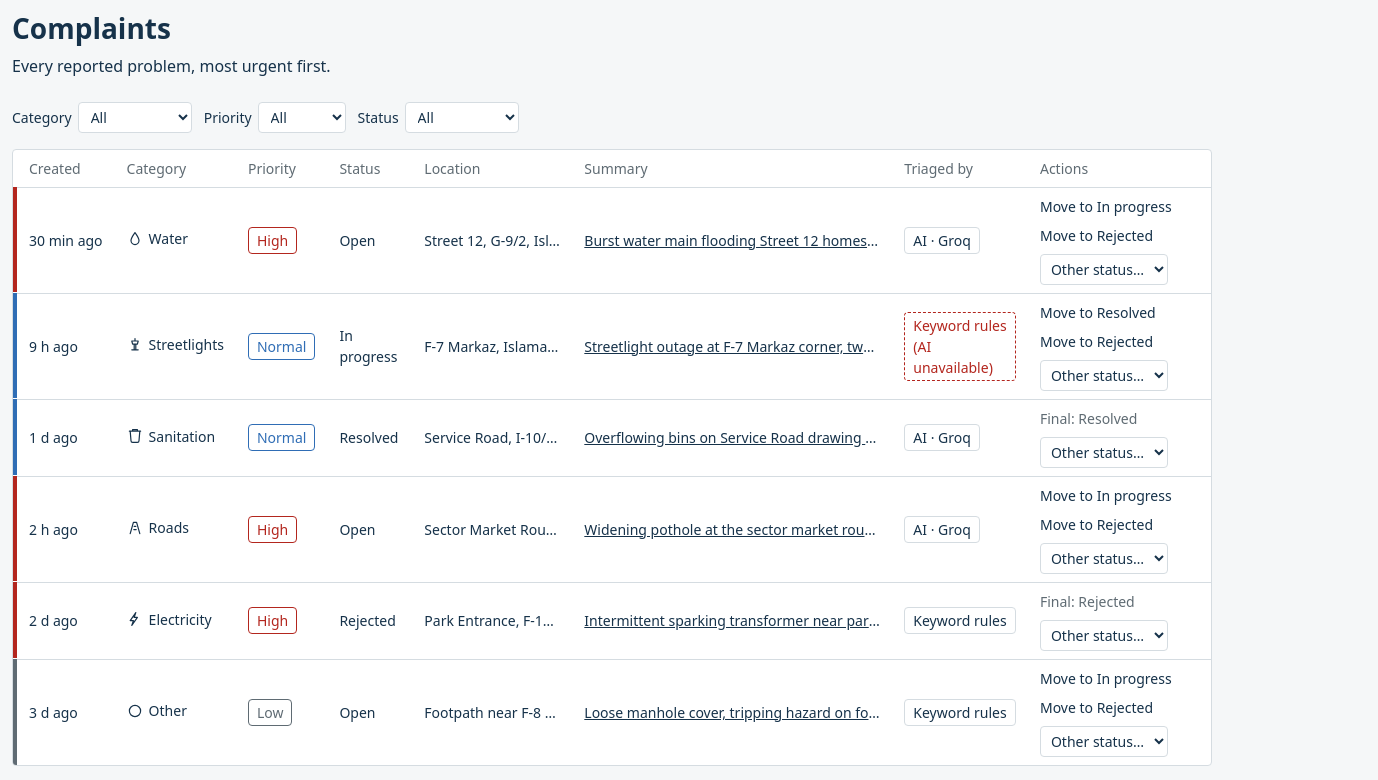
Test case: 8. changing a filter updates the URL and the query, and resets page to 1
Expected: the link "Overflowing bins on Service Road drawing strays." is shown, [584,427,880,448]
Select "Water" in the dropdown labelled "Category" at (135, 117), box [78,102,192,133]
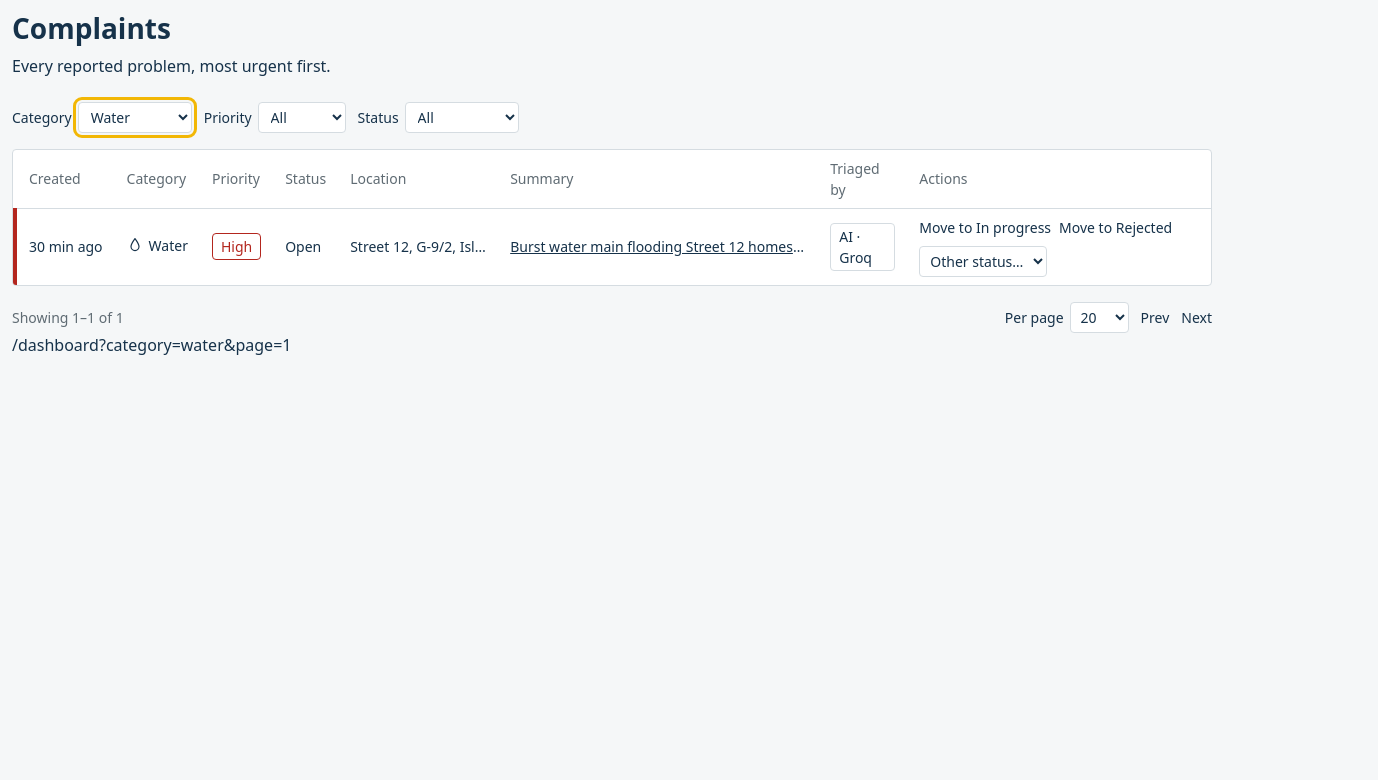
Expected: the link "Burst water main flooding Street 12 homes since dawn." is shown, [510,236,806,257]
Expected: the text with test id "location" reads "/dashboard?category=water&page=1", [12,334,292,356]
Expected: the link "Overflowing bins on Service Road drawing strays." is gone
